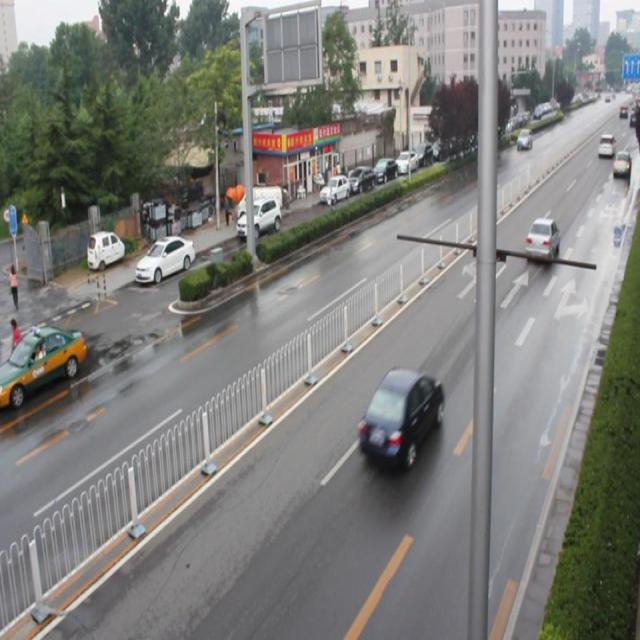car: (356, 364, 444, 470), (524, 218, 556, 262)
